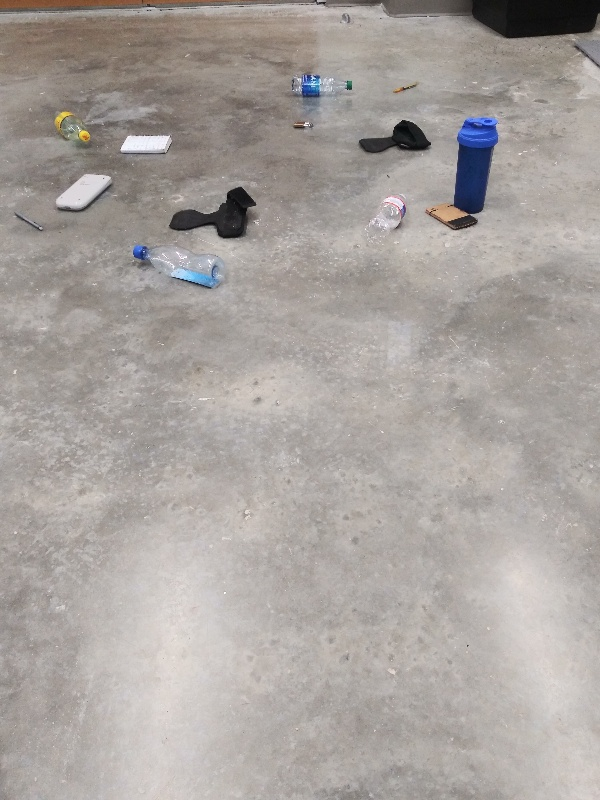bottle: (129, 241, 228, 292), (360, 189, 409, 248), (286, 72, 356, 105), (44, 103, 94, 149)
